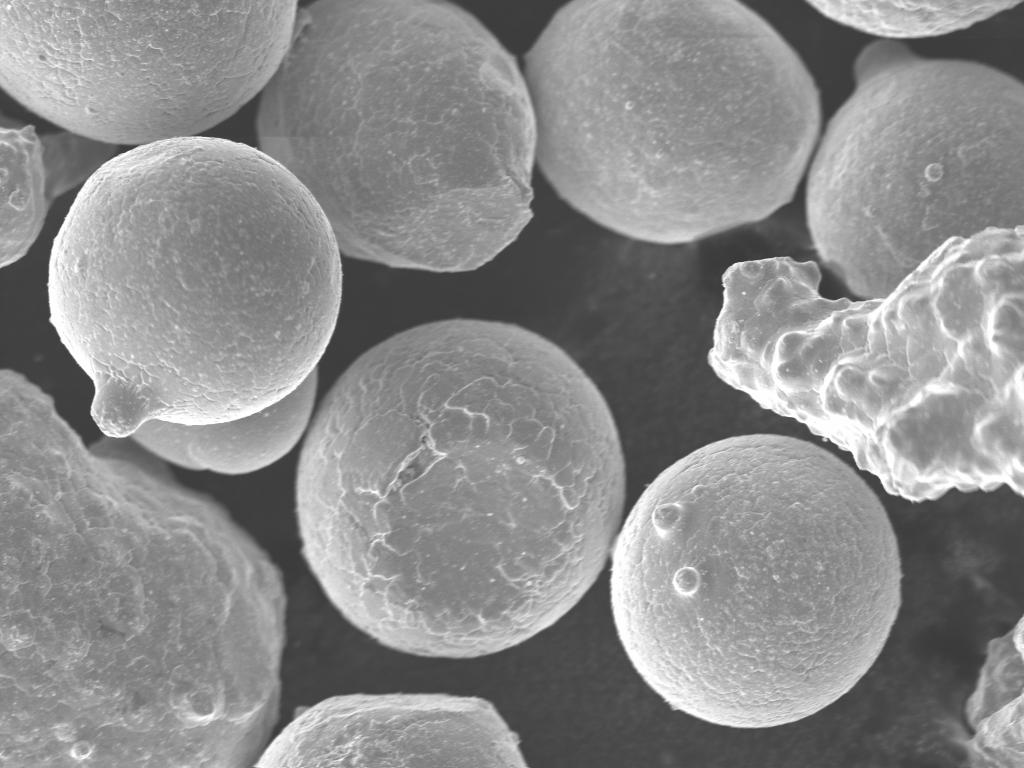Powder: (0, 370, 286, 765), (296, 320, 626, 657), (48, 136, 342, 435), (710, 227, 1024, 500), (612, 434, 900, 727), (256, 0, 536, 271), (526, 0, 820, 243), (806, 40, 1024, 297), (0, 1, 296, 144), (256, 694, 526, 768), (132, 368, 318, 474), (0, 111, 118, 267), (966, 618, 1024, 766), (808, 1, 1022, 38)
